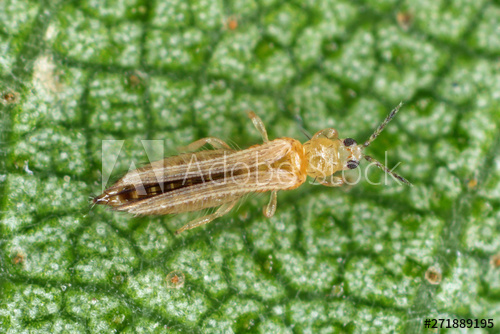Thrips: (72, 103, 417, 227)
